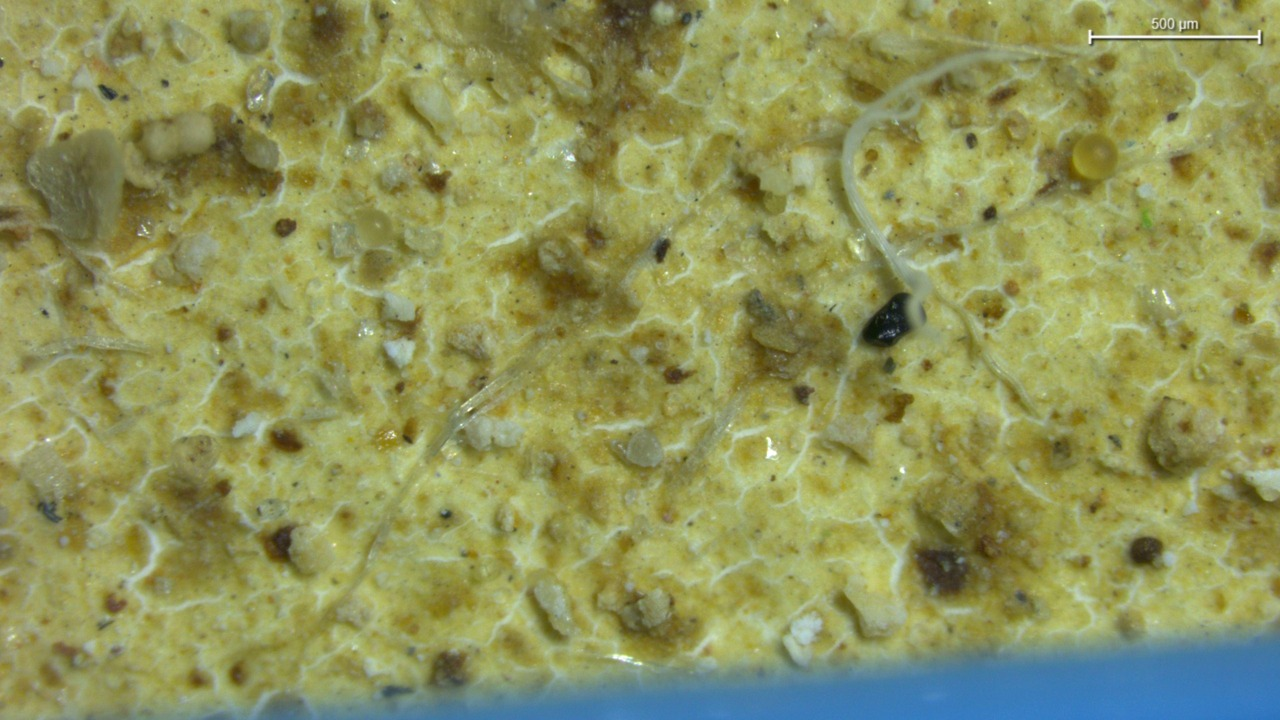microplastic_fragment: (1146, 396, 1227, 475), (844, 575, 907, 637), (533, 576, 576, 638), (782, 611, 823, 666), (289, 526, 333, 574), (464, 416, 524, 450), (382, 292, 416, 322), (383, 337, 415, 368)
